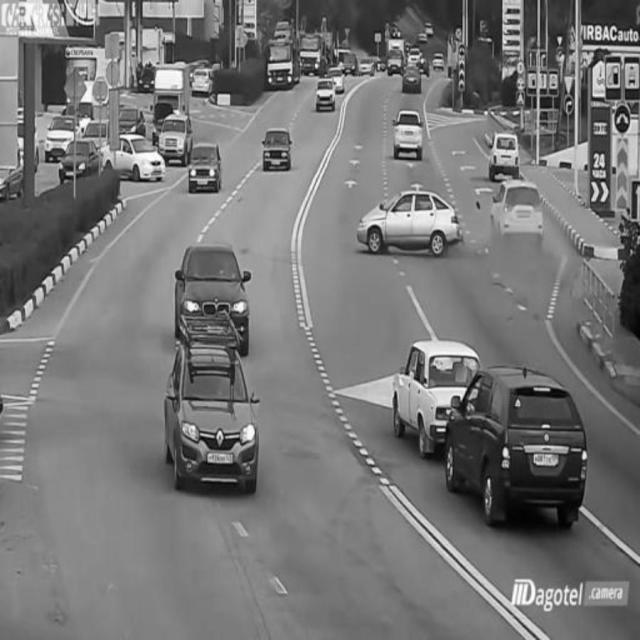vehicle: (450, 372, 588, 529), (170, 339, 258, 493), (397, 333, 474, 435), (175, 243, 263, 331), (359, 183, 460, 256), (492, 181, 548, 257), (107, 130, 165, 184), (56, 132, 100, 187), (263, 26, 300, 87), (43, 113, 80, 169), (186, 138, 221, 189), (261, 125, 296, 175), (488, 130, 525, 176), (392, 104, 422, 159), (159, 106, 189, 158), (399, 61, 429, 97), (385, 30, 405, 81), (315, 74, 339, 114), (191, 55, 213, 97)
